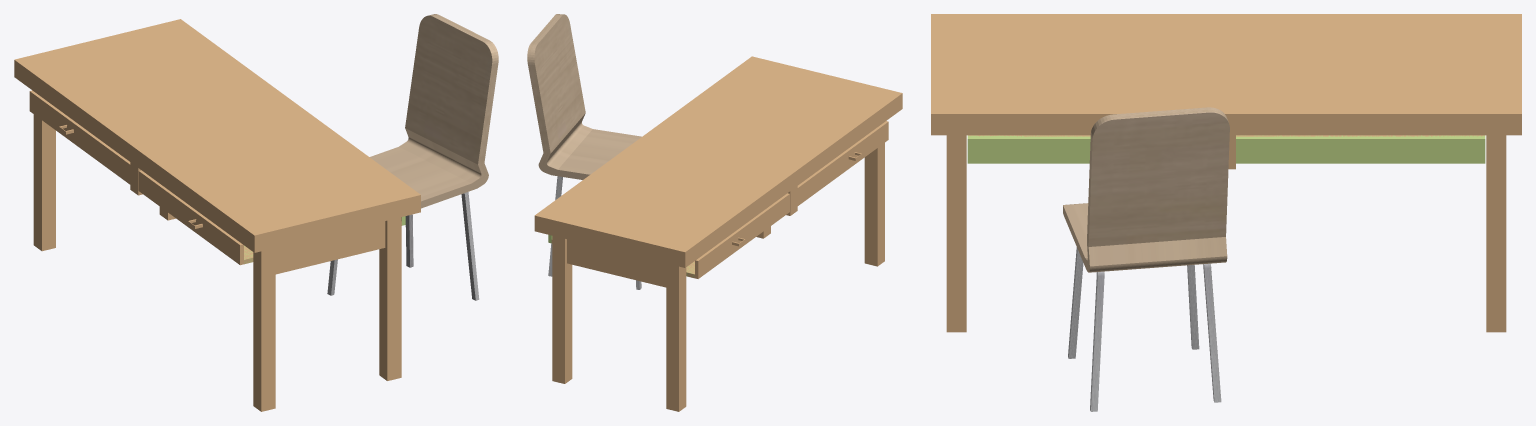
The model's file is chair_desk_empty.glb.
The picture shows the model from 3 angles, left to right: view 1: azimuth 30°, elevation 25°; view 2: azimuth 150°, elevation 25°; view 3: azimuth 270°, elevation 25°; orthographic projection. The views are drawn at different scales.
Parts seen in each view (by area): view 1: desk, chair; view 2: desk, chair; view 3: desk, chair.
Boxes of the visible parts, <box> form: desk: <box>14,19,420,411</box>; chair: <box>327,14,498,300</box>; desk: <box>534,56,902,411</box>; chair: <box>527,14,641,289</box>; desk: <box>931,14,1521,332</box>; chair: <box>1063,107,1229,411</box>.
Size of the model in its own units: 1.91 by 1.44 by 2.5.
Materials: 5 (2 with a texture image).
